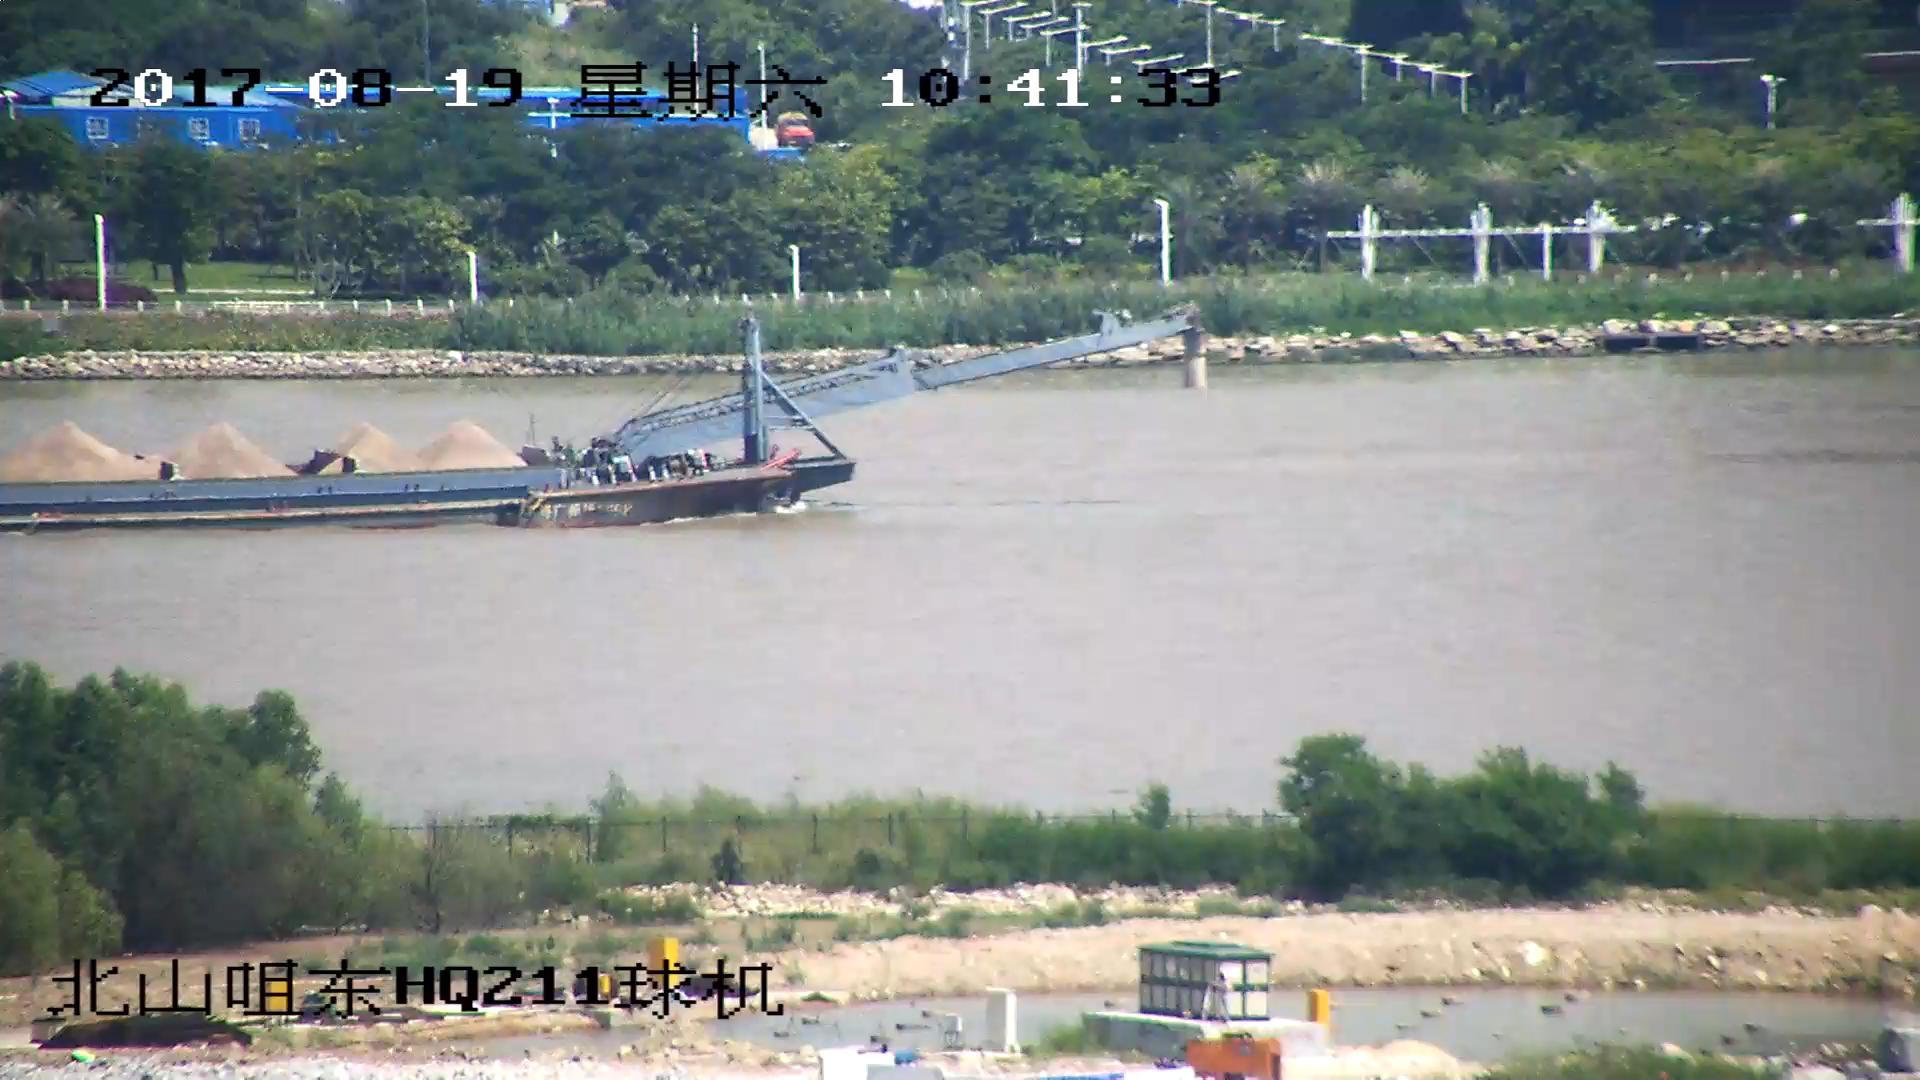ore carrier: (1, 314, 1196, 533)
